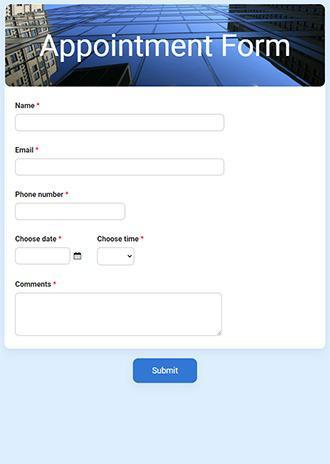button: (133, 358, 199, 385)
dropdown: (98, 248, 135, 266)
input: (16, 293, 224, 337), (16, 158, 227, 176), (17, 115, 224, 133), (15, 203, 128, 222), (15, 248, 72, 265)
label: (14, 188, 72, 201), (93, 233, 150, 246), (12, 277, 63, 291), (15, 233, 65, 245), (15, 143, 42, 155), (14, 101, 42, 111)
